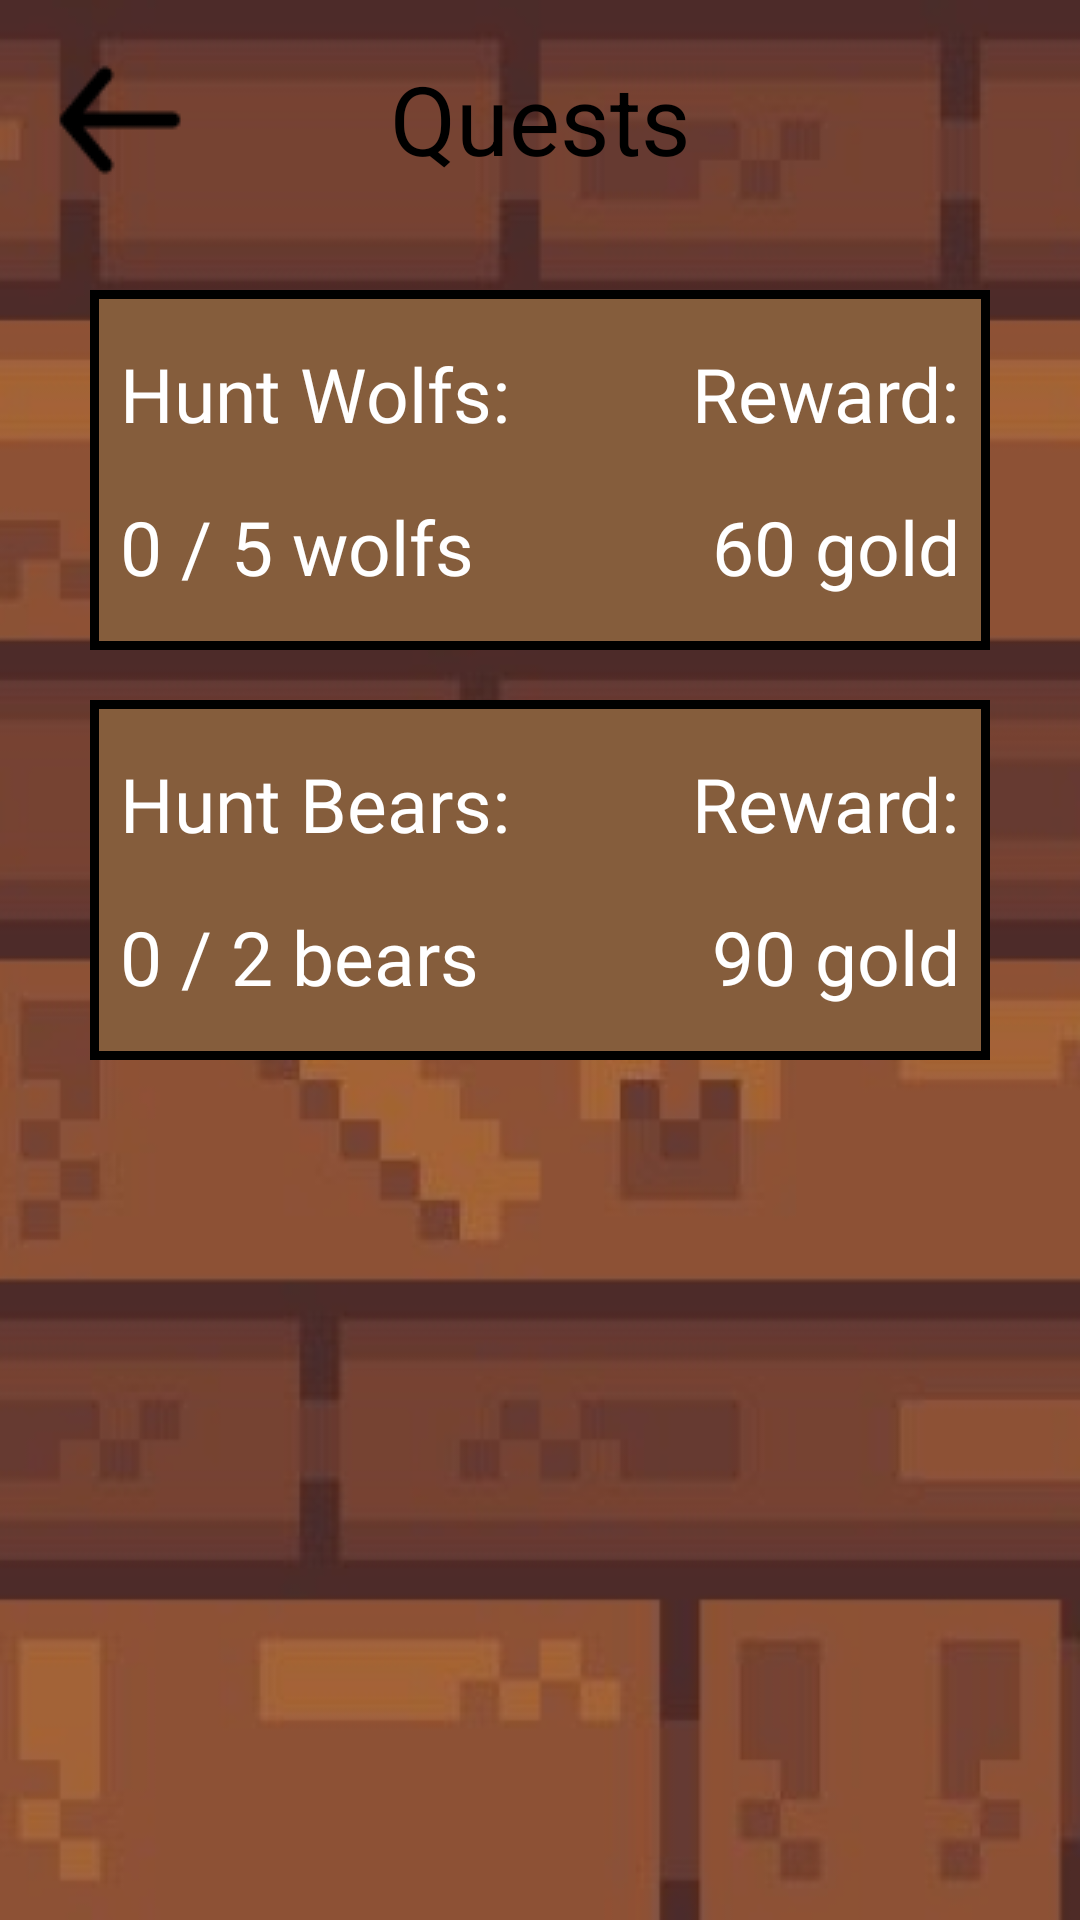

Named icons in this screenshot (1080x1920) and their bounding boxes, (x1, y1, x2, y2):
arrow: (30, 30, 210, 210)
